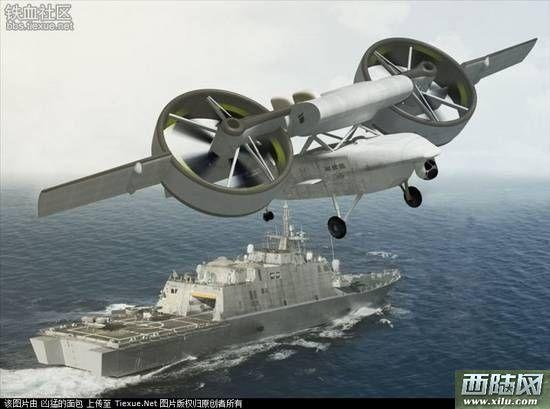warship: (27, 216, 409, 377)
